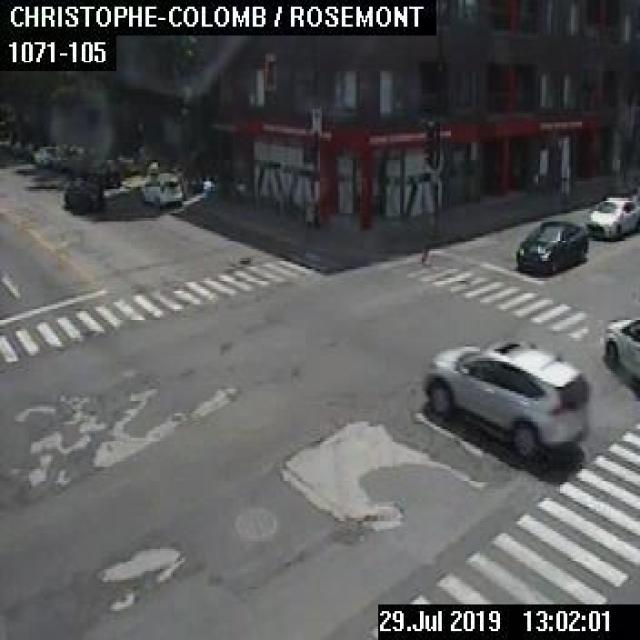vehicle: (422, 339, 586, 458), (514, 220, 587, 273), (602, 315, 638, 387), (586, 196, 638, 236), (140, 173, 180, 206), (62, 179, 102, 211), (86, 157, 120, 184), (33, 144, 56, 164)
